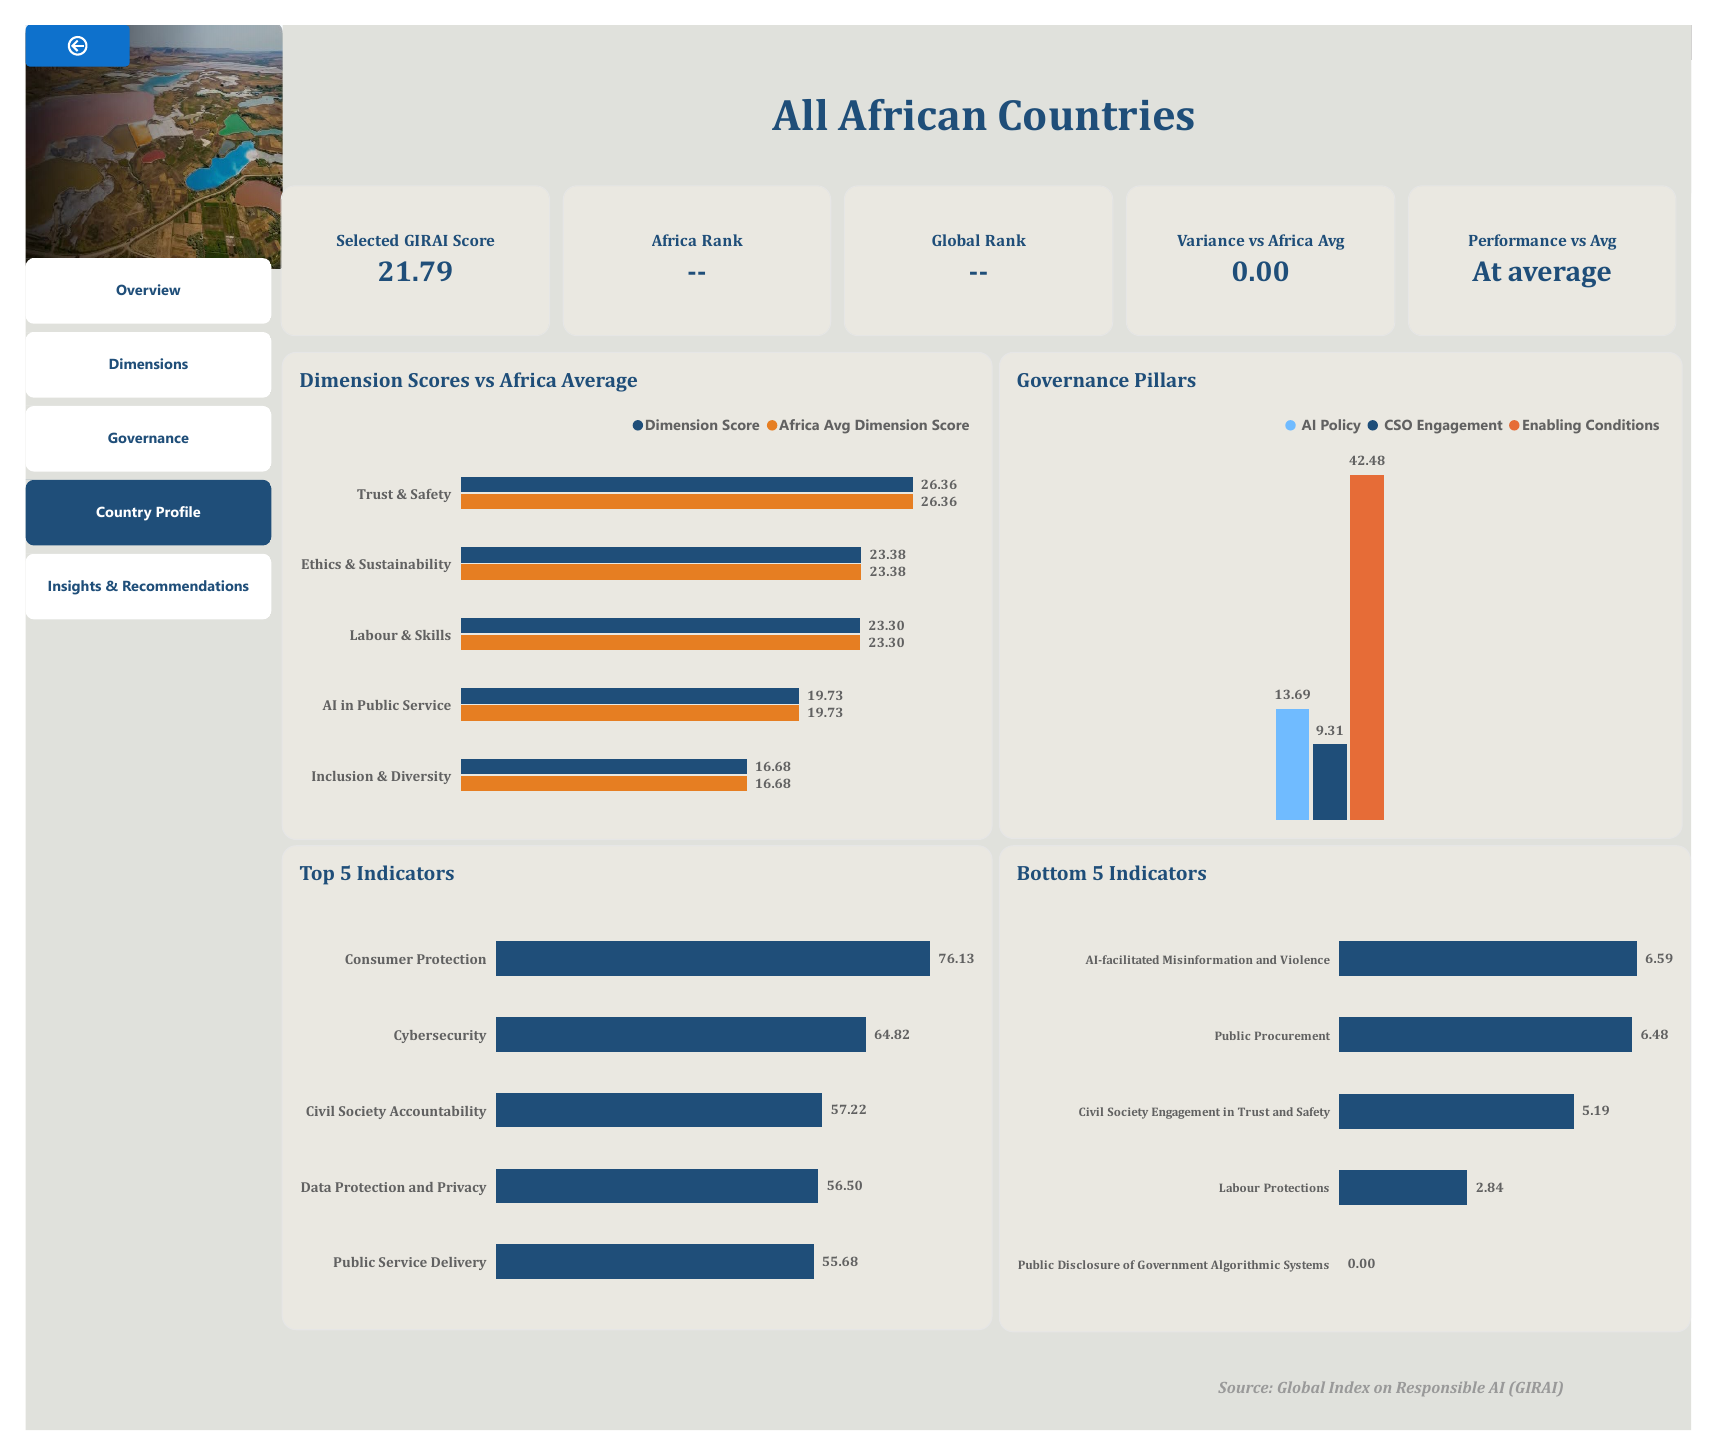

What the dashboard file says about the page in this screenshot:
{"tool":"powerbi","page":{"name":"Country Profile","canvas":[1600,1350],"ordinal":3},"visuals":[{"type":"image","box":[0,0,247.5,233.9],"z":0},{"type":"textbox","box":[1145.7,1300,388.6,48.6],"z":1000},{"type":"actionButton","box":[0,0,100,40],"z":2000},{"type":"cardVisual","fields":{"Data":["Measures (3).Country Title"]},"box":[696,21,450,127],"z":3000},{"type":"cardVisual","fields":{"Data":["Measures (3).Africa Rank"]},"box":[515.9,153.8,258.6,144.8],"z":4000},{"type":"cardVisual","fields":{"Data":["Measures (3).Global Rank"]},"box":[786.4,153.8,258.6,144.8],"z":5000},{"type":"cardVisual","fields":{"Data":["Measures (3).Performance vs Avg"]},"box":[1327.6,153.8,258.6,144.8],"z":6000},{"type":"cardVisual","fields":{"Data":["Measures (3).Selected GIRAI Score"]},"box":[245.3,153.8,258.6,144.8],"z":7000},{"type":"cardVisual","fields":{"Data":["Measures (3).Variance vs Africa Avg"]},"box":[1057,153.8,258.6,144.8],"z":8000},{"type":"clusteredBarChart","title":"Dimension Scores vs Africa Average","fields":{"Category":["Dimension List.Dimension"],"Y":["Dimension List.Dimension Score","Measures (3).Africa Avg Dimension Score"]},"box":[245.8,313.6,683.1,469.5],"z":9000},{"type":"clusteredColumnChart","title":"Governance Pillars","fields":{"Y":["Measures (3).Selected AI Policy","Measures (3).Selected CSO Engagement","Measures (3).Selected Enabling Conditions"]},"box":[935.3,313.7,656.9,468.6],"z":10000},{"type":"clusteredBarChart","title":"Top 5 Indicators","fields":{"Category":["Indicators_Long.Indicator"],"Y":["Avg(Indicators_Long.Score)"]},"box":[245.8,787.5,683.3,466.7],"z":11000},{"type":"clusteredBarChart","title":"Bottom 5 Indicators","fields":{"Category":["Indicators_Long.Indicator"],"Y":["Avg(Indicators_Long.Score)"]},"box":[935.4,787.5,664.6,468.8],"z":12000},{"type":"pageNavigator","box":[0,223.7,235.6,350.8],"z":13000}]}

Visuals, with their boxes in screenshot pixels (x1, y1, x2, y2), scaled from the page's 1600x1350 canvas onto the 1717x1456 screenshot:
image: box(0, 0, 266, 252)
textbox: box(1229, 1402, 1646, 1454)
actionButton: box(0, 0, 107, 43)
cardVisual - Measures (3).Country Title: box(747, 23, 1230, 160)
cardVisual - Measures (3).Africa Rank: box(554, 166, 831, 322)
cardVisual - Measures (3).Global Rank: box(844, 166, 1121, 322)
cardVisual - Measures (3).Performance vs Avg: box(1425, 166, 1702, 322)
cardVisual - Measures (3).Selected GIRAI Score: box(263, 166, 541, 322)
cardVisual - Measures (3).Variance vs Africa Avg: box(1134, 166, 1412, 322)
"Dimension Scores vs Africa Average" clusteredBarChart: box(264, 338, 997, 845)
"Governance Pillars" clusteredColumnChart: box(1004, 338, 1709, 844)
"Top 5 Indicators" clusteredBarChart: box(264, 849, 997, 1353)
"Bottom 5 Indicators" clusteredBarChart: box(1004, 849, 1716, 1355)
pageNavigator: box(0, 241, 253, 620)
